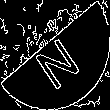N_NW: (27, 23, 83, 87)
